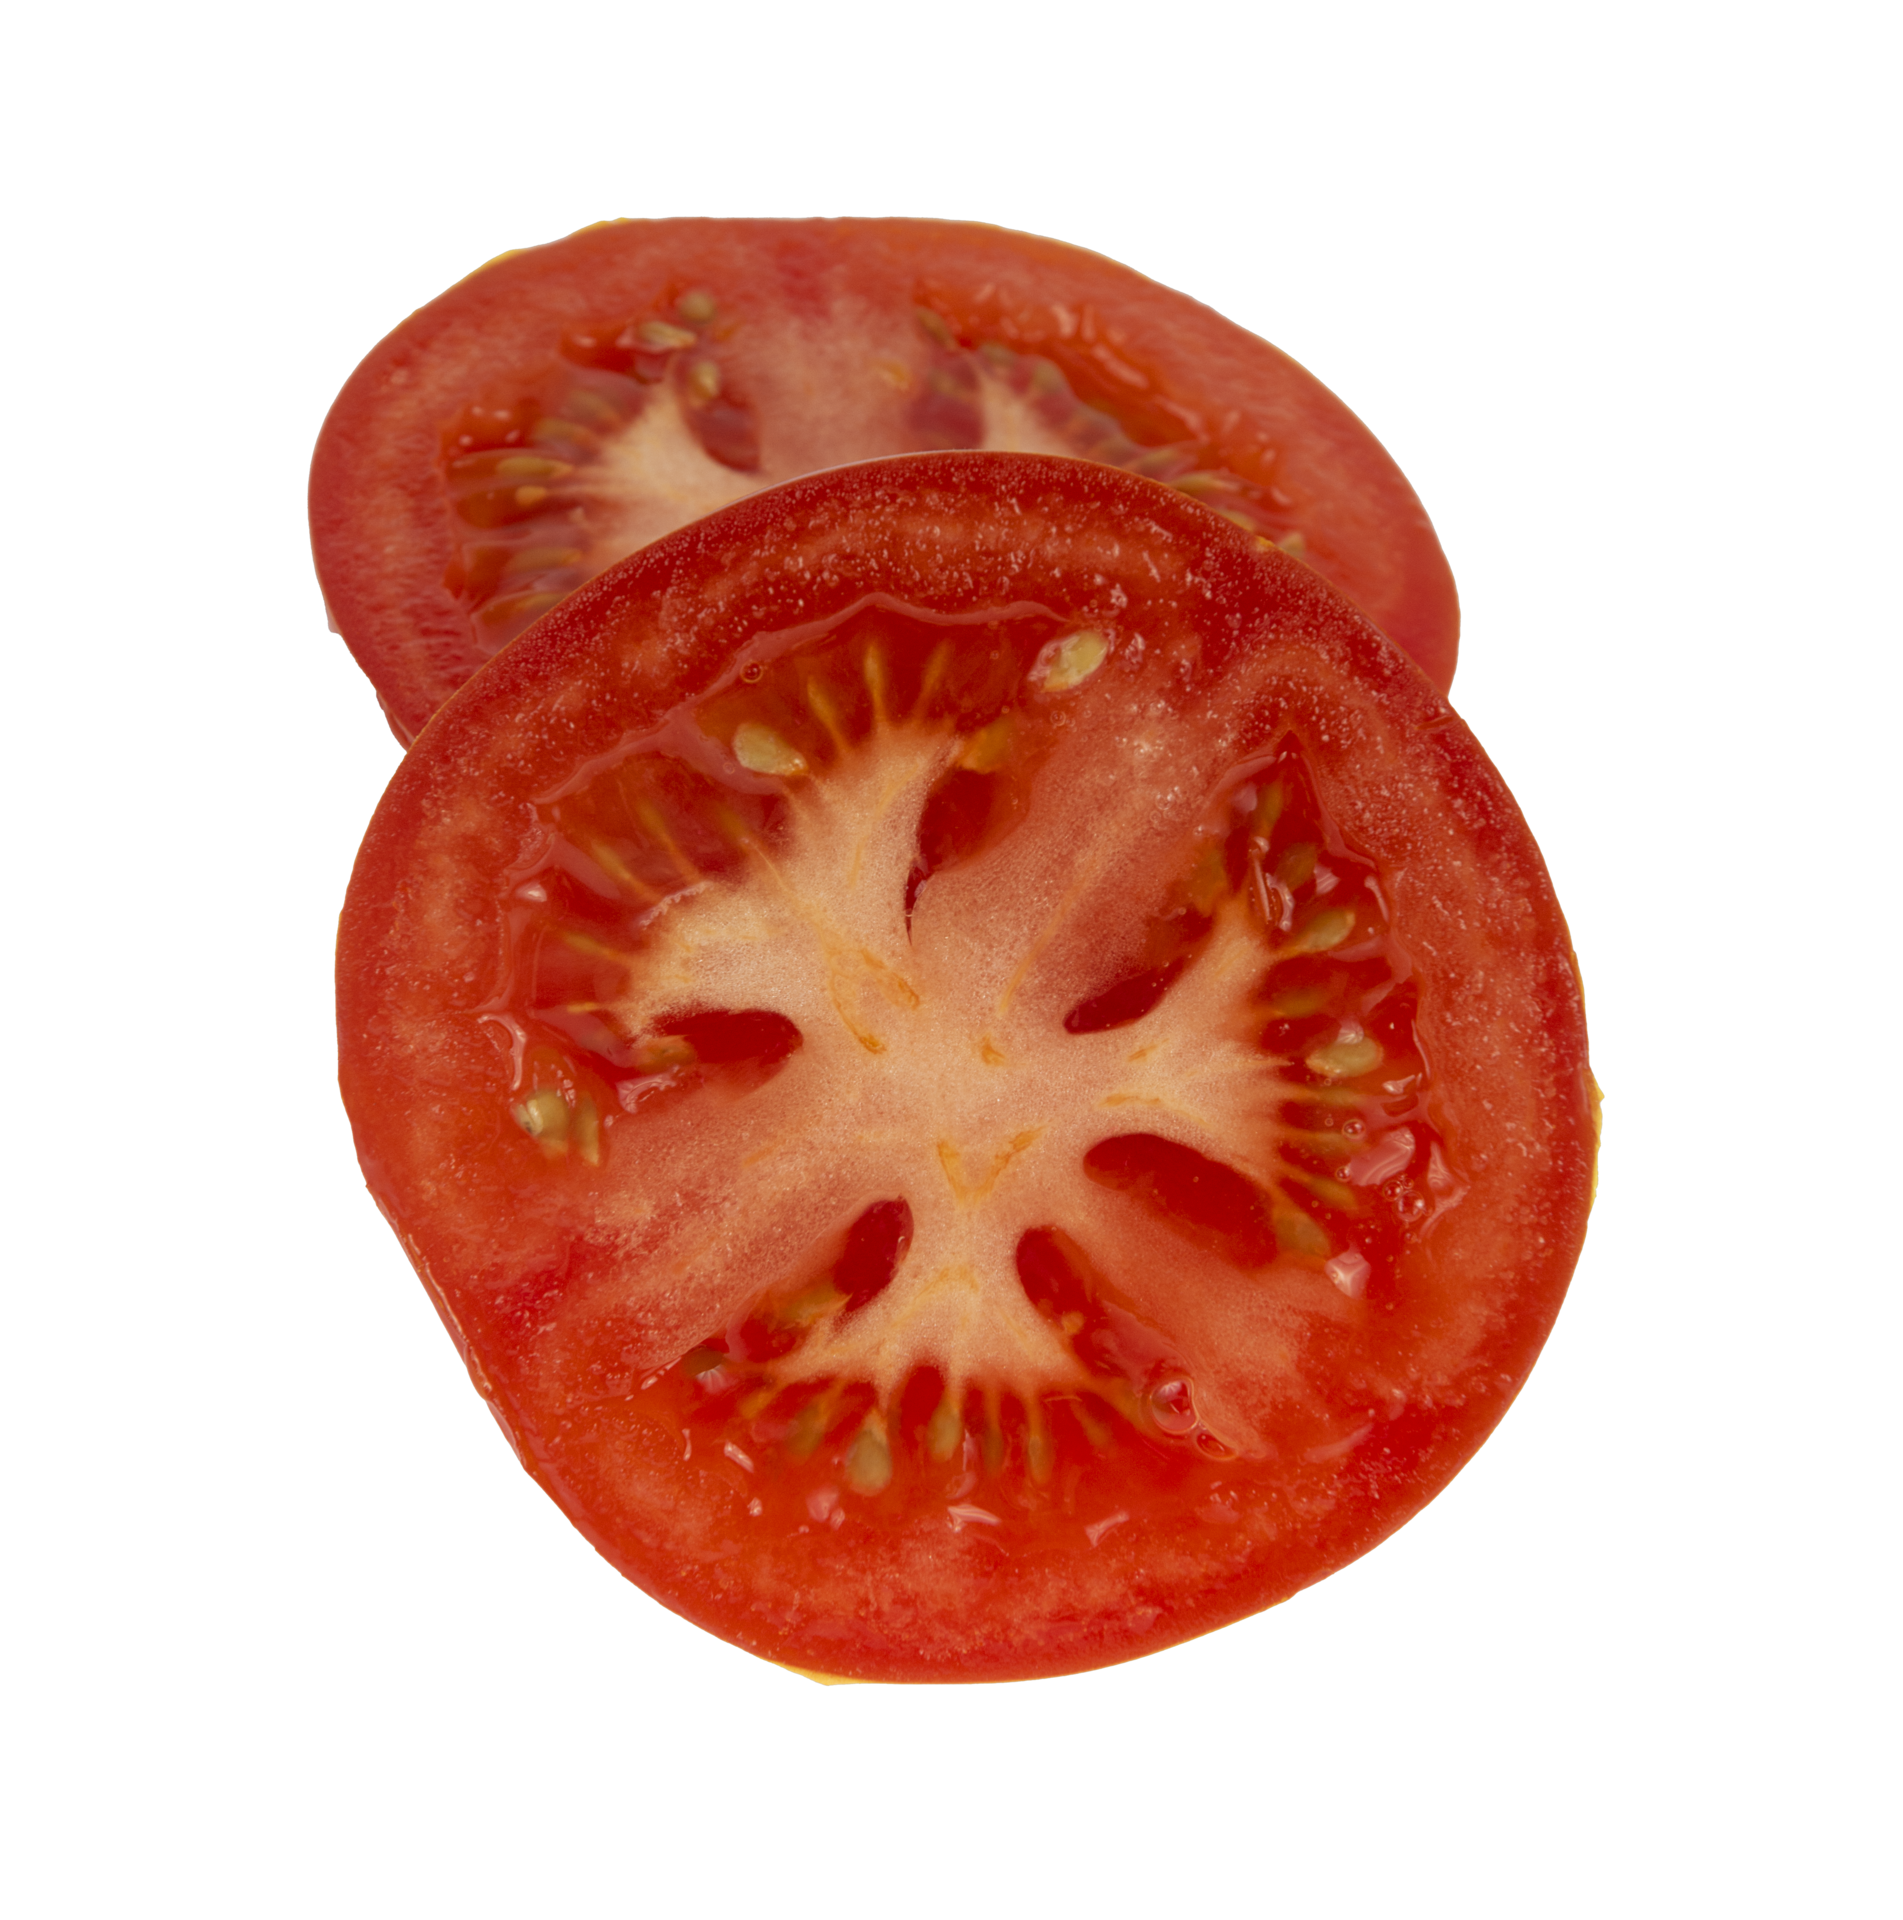tomato: (307, 218, 1602, 1685)
